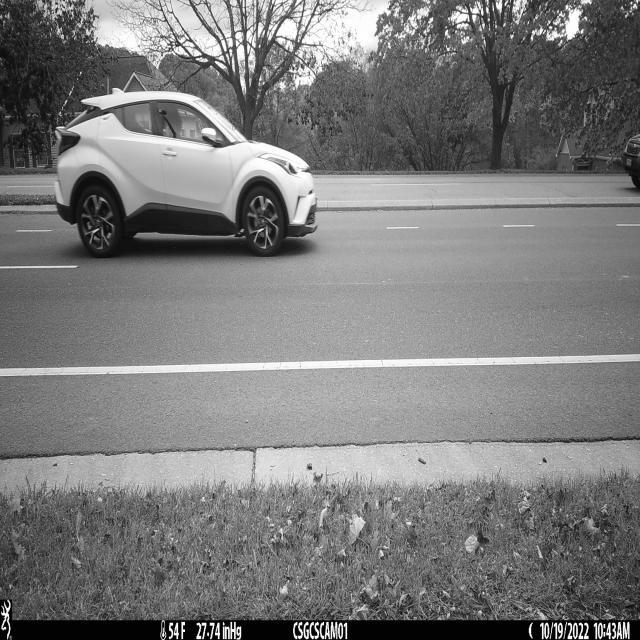SUV: (54, 89, 317, 259)
